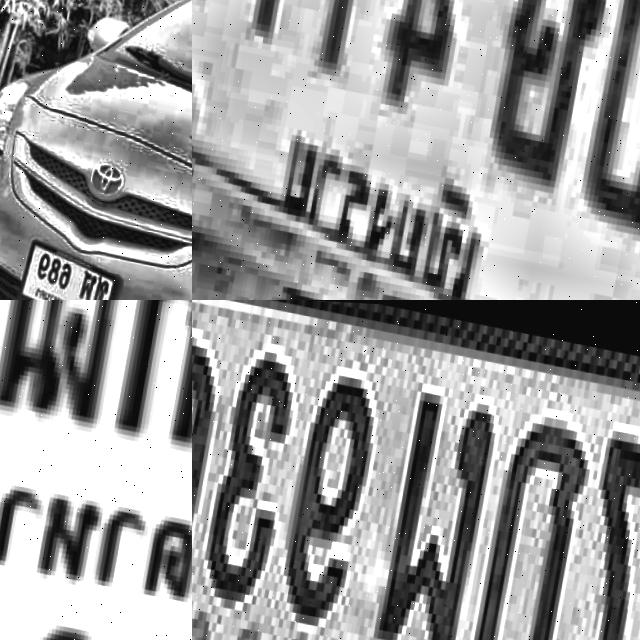license-plate: (192, 300, 640, 640), (192, 0, 640, 300), (0, 300, 192, 640), (12, 234, 129, 300)
